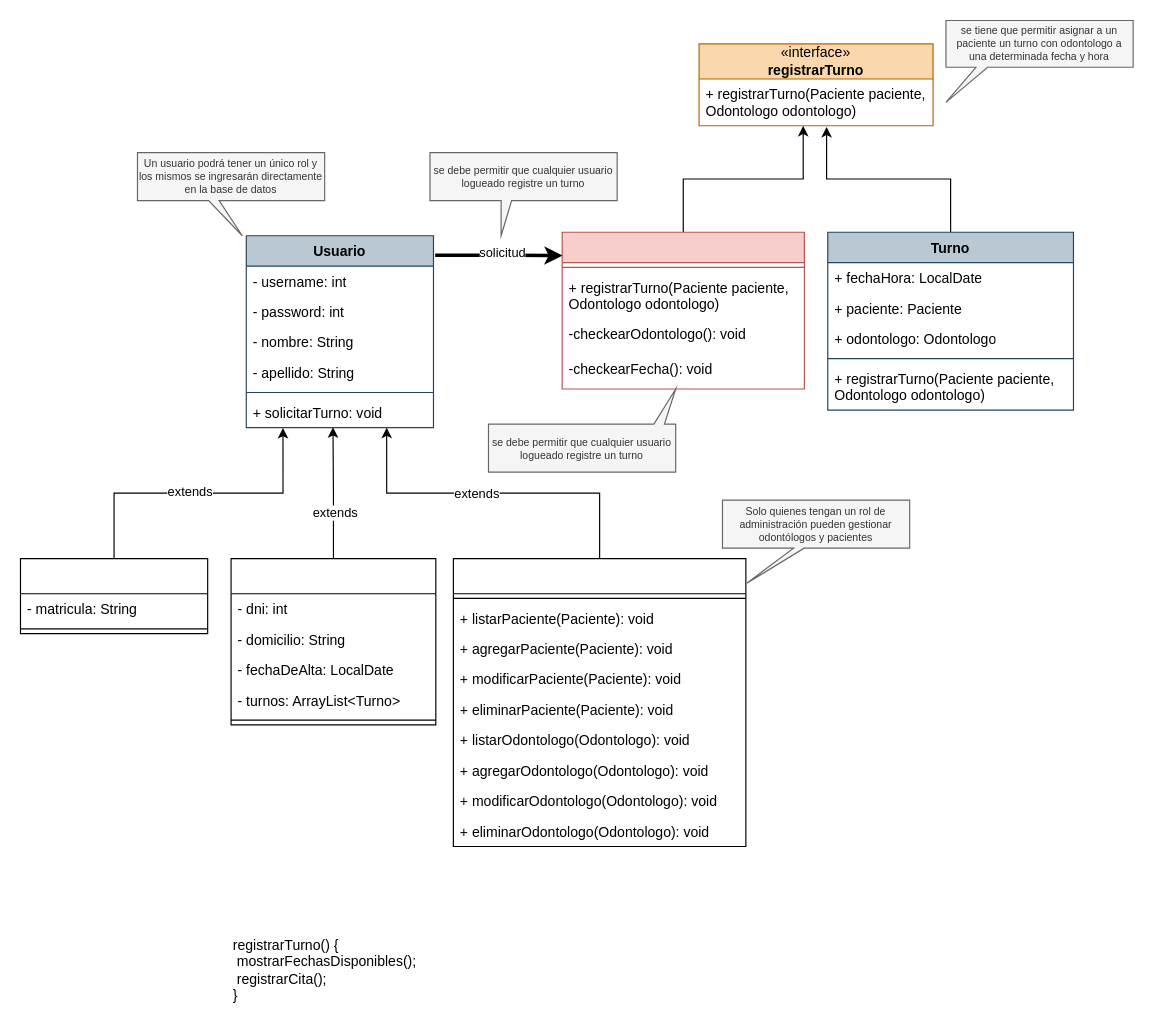
This 1154x1027 diagram has some shape labels left out. Each missing label, with the box of its shape:
Administrador: (452, 558, 746, 846)
Odontologo: (19, 558, 208, 634)
Paciente: (230, 558, 436, 725)
Proxy: (561, 231, 804, 389)
